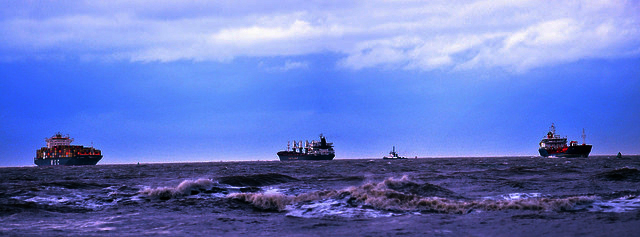bulk carrier: (539, 123, 595, 157), (277, 133, 335, 162)
container_ship: (33, 131, 102, 165)
tug_boat: (379, 143, 409, 160)
